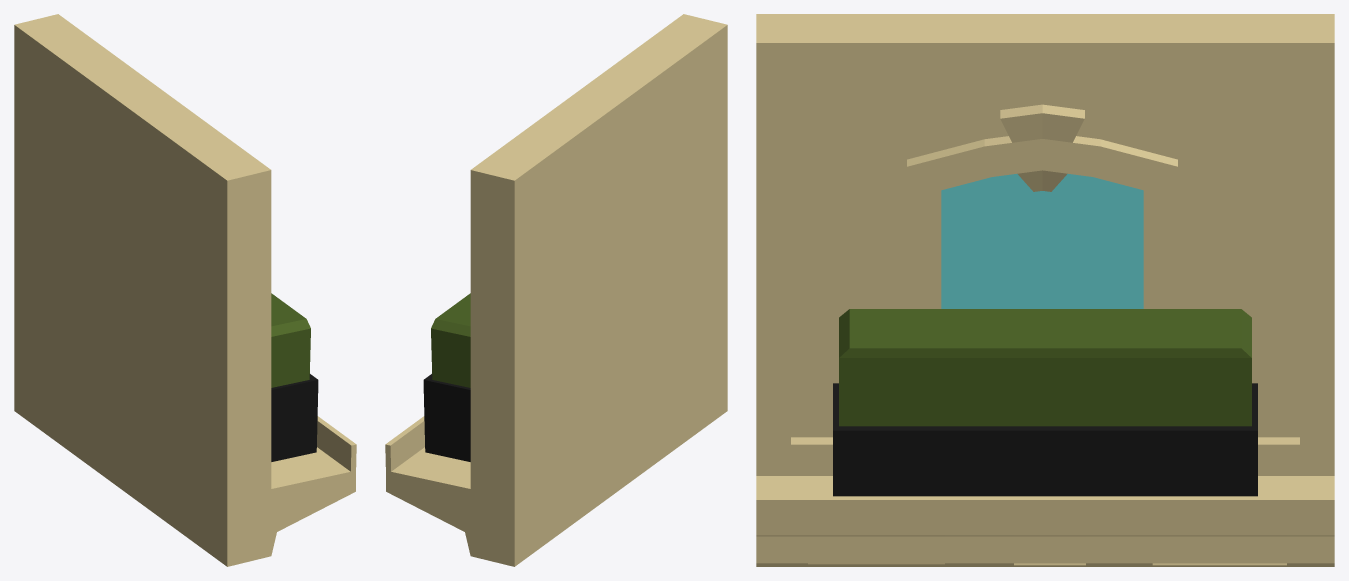
Rendered from FrenchWall.fbx.
3 views of the same model, side by side, from view 1: azimuth 30°, elevation 25°; view 2: azimuth 150°, elevation 25°; view 3: azimuth 270°, elevation 25° (orthographic). The views are drawn at different scales.
Parts seen in each view (by area): view 1: Cube.001; view 2: Cube.001; view 3: Cube.001.
Boxes of the visible parts, x1=… form: Cube.001: x1=14, y1=14, x2=356, y2=566; Cube.001: x1=385, y1=14, x2=727, y2=566; Cube.001: x1=756, y1=14, x2=1334, y2=566.
Size of the model in its own units: 140 by 400 by 400.
